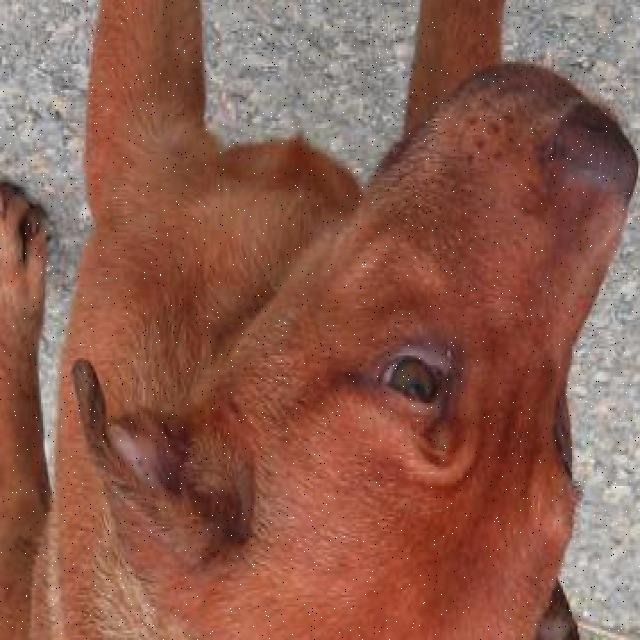Dog: (59, 59, 640, 640)
